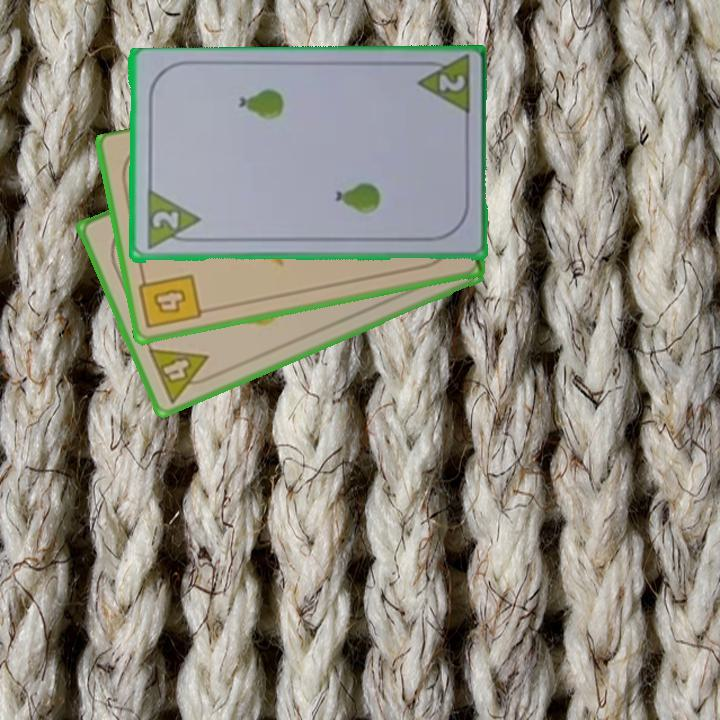2p: (412, 54, 473, 120), (148, 208, 181, 233)
4b: (136, 270, 204, 332)
4p: (144, 344, 219, 406)
